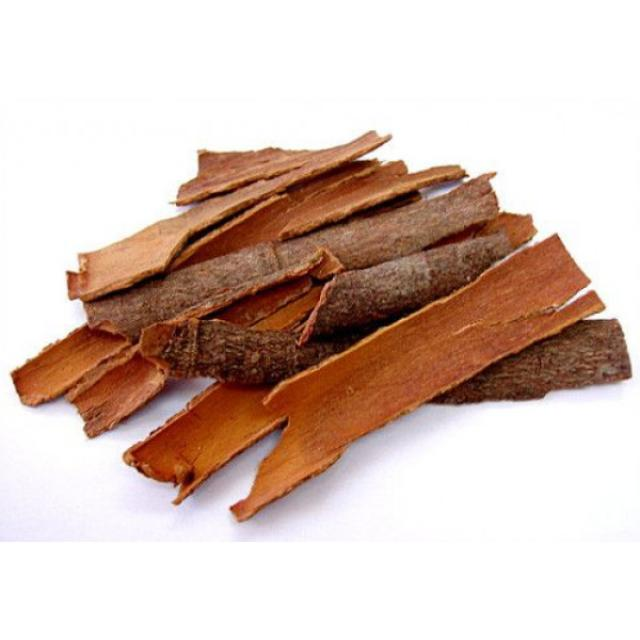Cinnamon: (231, 235, 604, 519), (169, 160, 465, 269), (300, 232, 511, 343), (84, 244, 324, 341), (125, 382, 285, 504), (432, 319, 631, 403), (69, 197, 229, 301)
